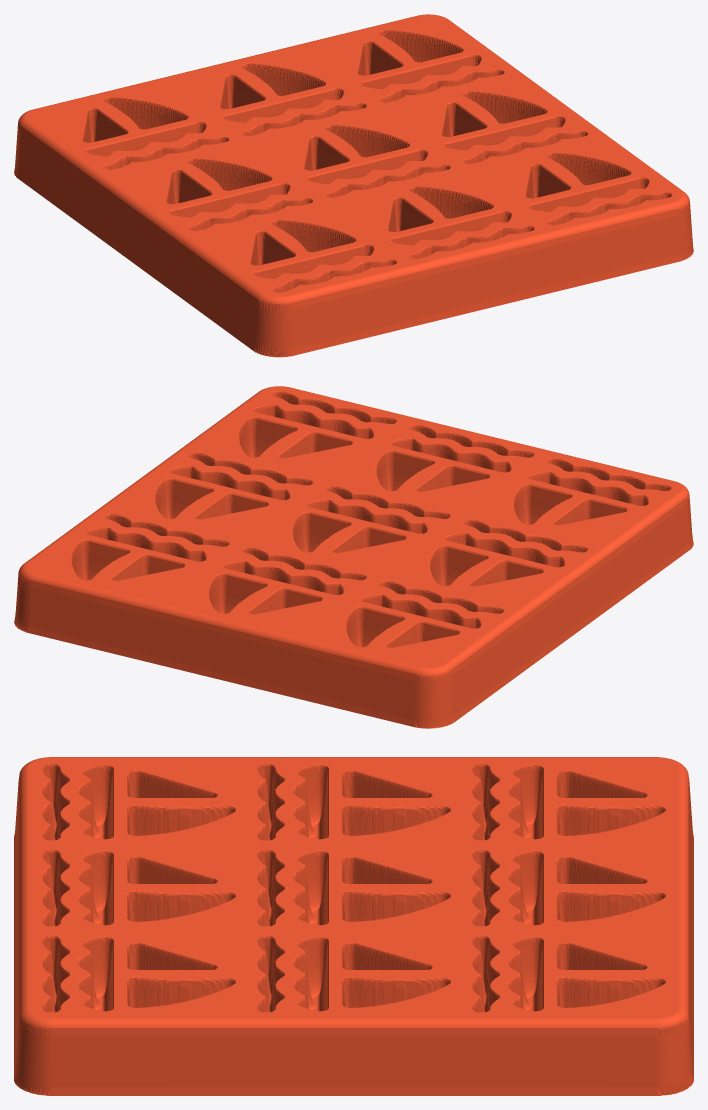
Rendered from mold.glb.
The picture shows the model from 3 angles, top to bottom: view 1: azimuth 30°, elevation 25°; view 2: azimuth 150°, elevation 25°; view 3: azimuth 270°, elevation 25°; orthographic projection. The views are drawn at different scales.
Parts seen in each view (by area): view 1: geometry_0; view 2: geometry_0; view 3: geometry_0.
Part boxes in pixels (left/top/right/bottom): geometry_0: left=14, top=14, right=693, bottom=357; geometry_0: left=14, top=386, right=693, bottom=728; geometry_0: left=14, top=757, right=693, bottom=1095.
Bounding box in the file's own units: 0.1515 × 0.0185 × 0.1595.
